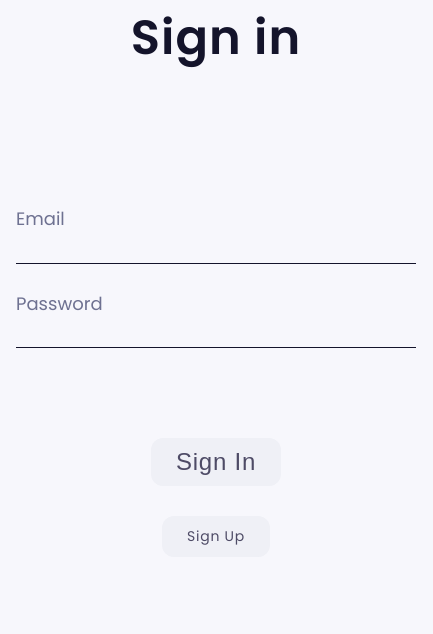
Test: should login with wrong email
The width and height of the screenshot is (433, 634).
Type "wrong@g" into the field labelled "Email". click: (216, 249)
box: x1=16 y1=235 x2=416 y2=264
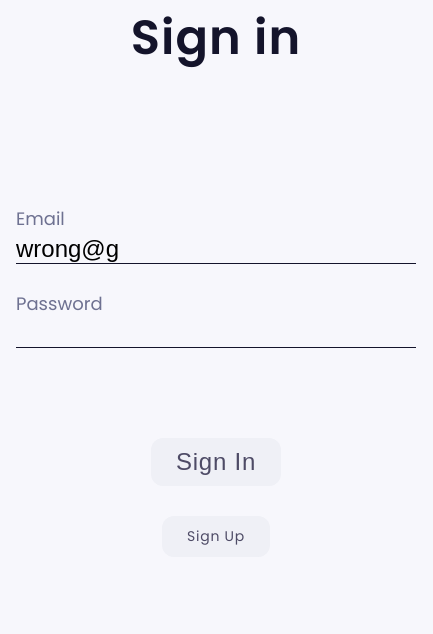
Type "123456" into the password field labelled "Password". click: (216, 334)
box: x1=16 y1=319 x2=416 y2=348
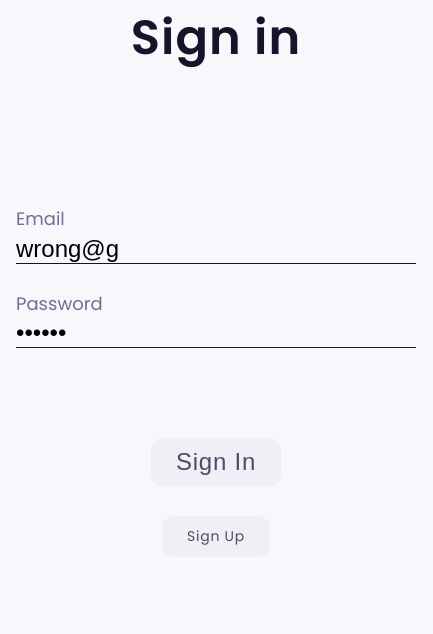
Click the button "Sign In". click: (216, 462)
box: x1=151 y1=438 x2=281 y2=486
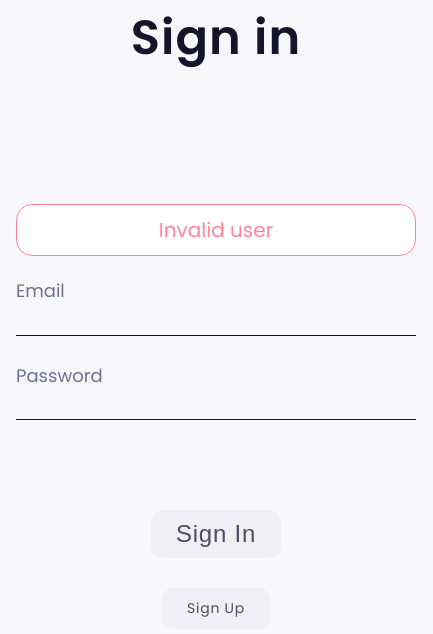
Expected: the text "Invalid user" is shown, x1=16 y1=204 x2=416 y2=256
